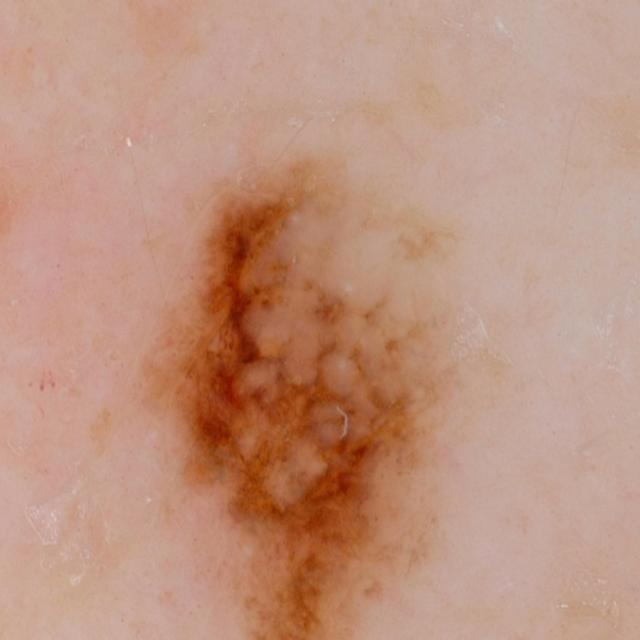Melanoma: (137, 171, 464, 640)
